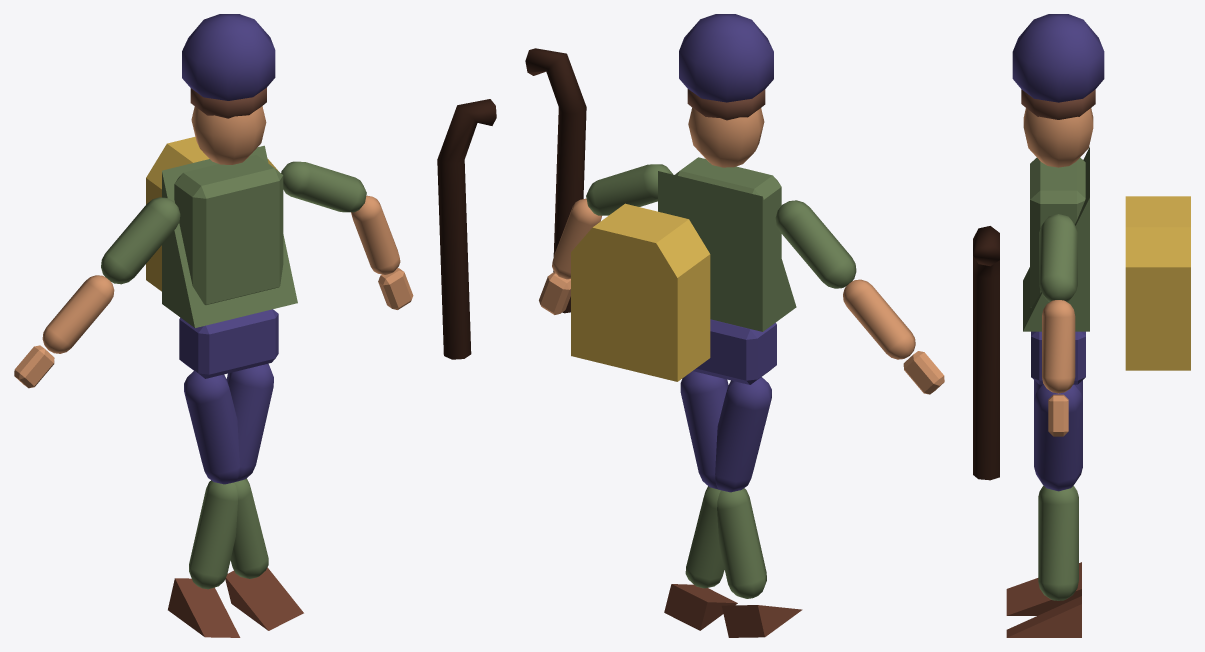
File: adventurer.rustic.glb
3 renders of one model, left to right at view 1: azimuth 30°, elevation 25°; view 2: azimuth 150°, elevation 25°; view 3: azimuth 270°, elevation 25°, orthographic.
Visible parts, largest first — view 1: torso, accessory.main-hand, accessory.head, tunic, pelvis, thigh.left, shin.right, upper-arm.left, thigh.right, head, upper-arm.right, forearm.left (+8 smaller); view 2: accessory.back, tunic, accessory.head, accessory.main-hand, thigh.left, shin.right, upper-arm.left, pelvis, thigh.right, head, forearm.left, upper-arm.right (+8 smaller); view 3: accessory.back, accessory.main-hand, accessory.head, shin.left, thigh.right, torso, upper-arm.right, head, forearm.right, tunic, foot.left, foot.right (+3 smaller).
Part boxes in pixels (x1=…): torso: x1=174, y1=155, x2=283, y2=304; accessory.main-hand: x1=437, y1=99, x2=496, y2=359; accessory.head: x1=182, y1=14, x2=275, y2=100; tunic: x1=162, y1=145, x2=297, y2=327; pelvis: x1=179, y1=309, x2=278, y2=378; thigh.left: x1=184, y1=371, x2=239, y2=484; shin.right: x1=189, y1=480, x2=237, y2=589; upper-arm.left: x1=101, y1=197, x2=180, y2=284; thigh.right: x1=226, y1=364, x2=273, y2=481; head: x1=191, y1=106, x2=266, y2=164; upper-arm.right: x1=281, y1=161, x2=366, y2=212; forearm.left: x1=42, y1=275, x2=114, y2=353; accessory.back: x1=571, y1=203, x2=710, y2=381; tunic: x1=658, y1=171, x2=796, y2=331; accessory.head: x1=679, y1=14, x2=773, y2=102; accessory.main-hand: x1=525, y1=48, x2=586, y2=313; thigh.left: x1=715, y1=377, x2=771, y2=492; shin.right: x1=717, y1=488, x2=766, y2=598; upper-arm.left: x1=775, y1=200, x2=856, y2=288; pelvis: x1=693, y1=319, x2=776, y2=384; thigh.right: x1=680, y1=371, x2=728, y2=489; head: x1=688, y1=107, x2=764, y2=167; forearm.left: x1=843, y1=279, x2=915, y2=359; upper-arm.right: x1=586, y1=164, x2=672, y2=215; accessory.back: x1=1125, y1=196, x2=1190, y2=370; accessory.main-hand: x1=973, y1=226, x2=999, y2=480; accessory.head: x1=1012, y1=14, x2=1104, y2=102; shin.left: x1=1038, y1=486, x2=1078, y2=600; thigh.right: x1=1034, y1=384, x2=1082, y2=491; torso: x1=1030, y1=157, x2=1085, y2=307; upper-arm.right: x1=1039, y1=214, x2=1077, y2=301; head: x1=1023, y1=108, x2=1093, y2=167; forearm.right: x1=1042, y1=300, x2=1075, y2=393; tunic: x1=1023, y1=147, x2=1089, y2=331; foot.left: x1=1006, y1=596, x2=1081, y2=637; foot.right: x1=1006, y1=562, x2=1081, y2=615.
Bounding box in the file's own units: 2.52 × 3.28 × 1.07.
